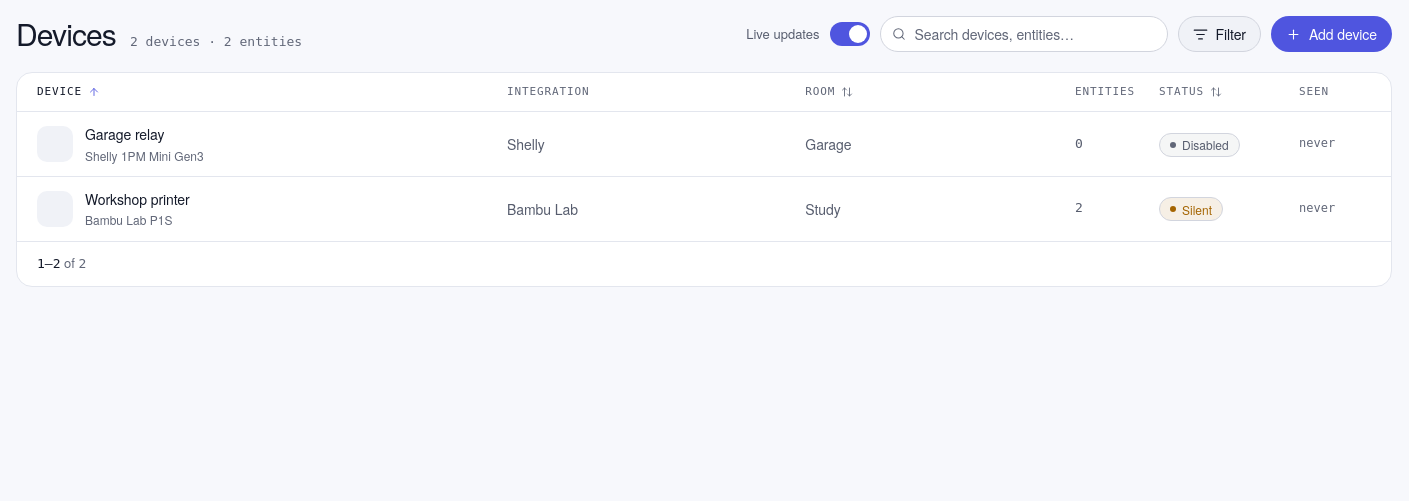
Test case: DevicesPage › offers the areas under their floors, the floors by their number
Click the button "Filter". click: (1219, 34)
box: top-left (1178, 16), bottom-right (1261, 52)
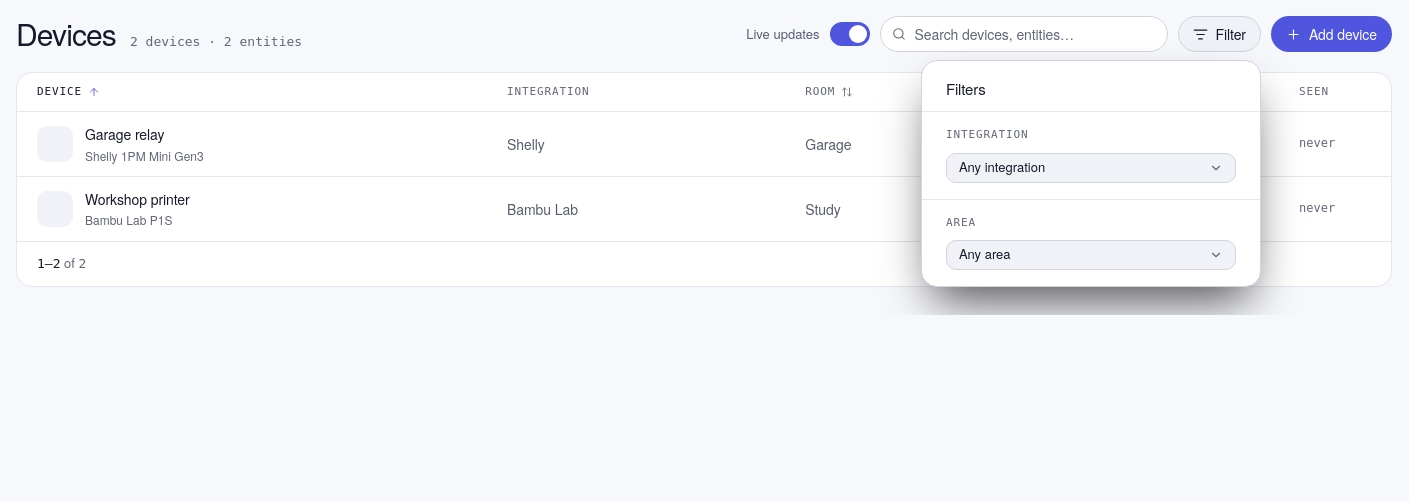
Click the dropdown labelled "Any area". click: (985, 254)
box: top-left (946, 240), bottom-right (1236, 270)
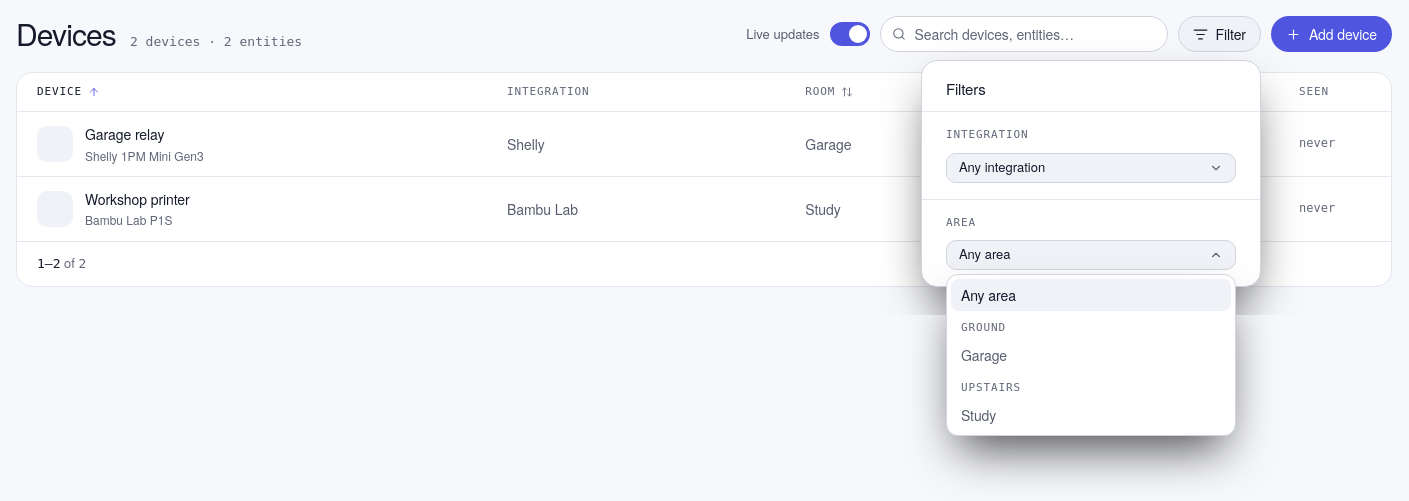
Expected: the options read "Any area", "Garage", "Study", in this order, top-left (951, 279), bottom-right (1231, 311); top-left (961, 345), bottom-right (1007, 365); top-left (961, 405), bottom-right (996, 425)
